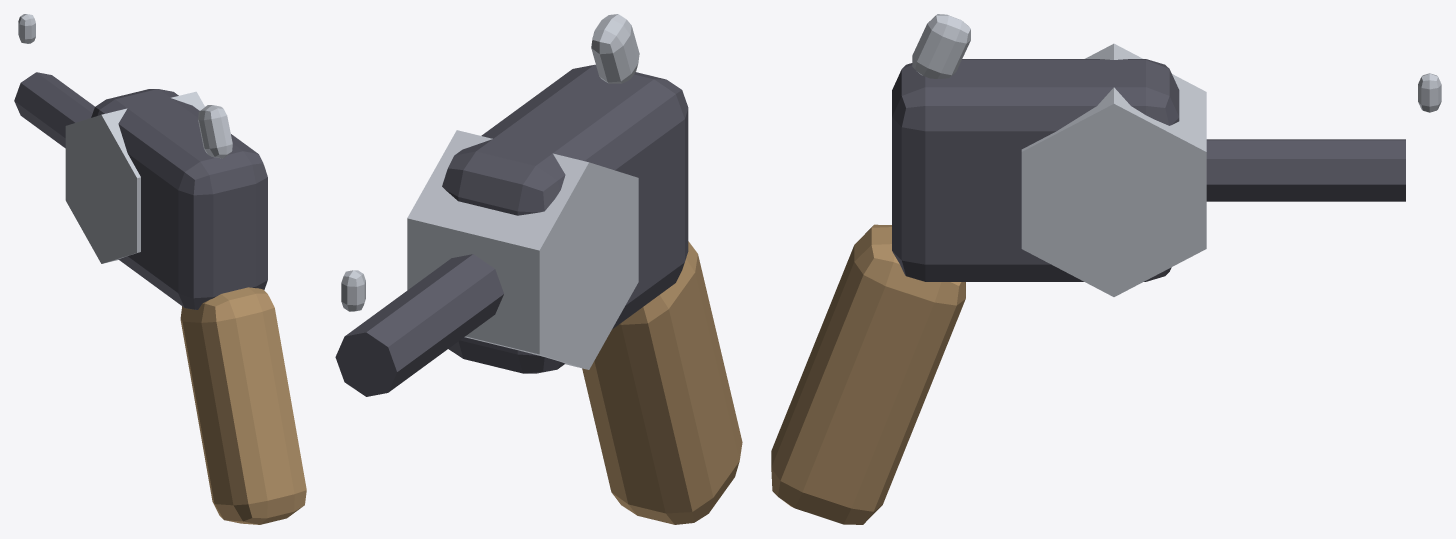
File: sheriff.glb
The picture shows the model from 3 angles, left to right: view 1: azimuth 30°, elevation 25°; view 2: azimuth 150°, elevation 25°; view 3: azimuth 270°, elevation 25°; orthographic projection. The views are drawn at different scales.
Visible parts, largest first — view 1: body, grip, cylinder, barrel, hammer, sight_front; view 2: cylinder, body, grip, barrel, hammer, sight_front; view 3: body, grip, cylinder, barrel, hammer, sight_front.
Part boxes in pixels (x1=…): body: x1=91, y1=89, x2=267, y2=309; grip: x1=180, y1=287, x2=306, y2=524; cylinder: x1=65, y1=91, x2=204, y2=263; barrel: x1=14, y1=72, x2=94, y2=148; hammer: x1=198, y1=105, x2=232, y2=158; sight_front: x1=18, y1=14, x2=35, y2=43; cylinder: x1=407, y1=130, x2=638, y2=369; body: x1=442, y1=64, x2=688, y2=373; grip: x1=582, y1=241, x2=742, y2=524; barrel: x1=335, y1=254, x2=503, y2=396; hammer: x1=591, y1=14, x2=639, y2=83; sight_front: x1=341, y1=270, x2=365, y2=311; body: x1=892, y1=59, x2=1179, y2=281; grip: x1=771, y1=224, x2=965, y2=524; cylinder: x1=1021, y1=43, x2=1206, y2=296; barrel: x1=1206, y1=139, x2=1405, y2=201; hammer: x1=912, y1=14, x2=970, y2=78; sight_front: x1=1418, y1=73, x2=1441, y2=112.
Bounding box in the file's own units: 0.06 × 0.2319 × 0.2824.
